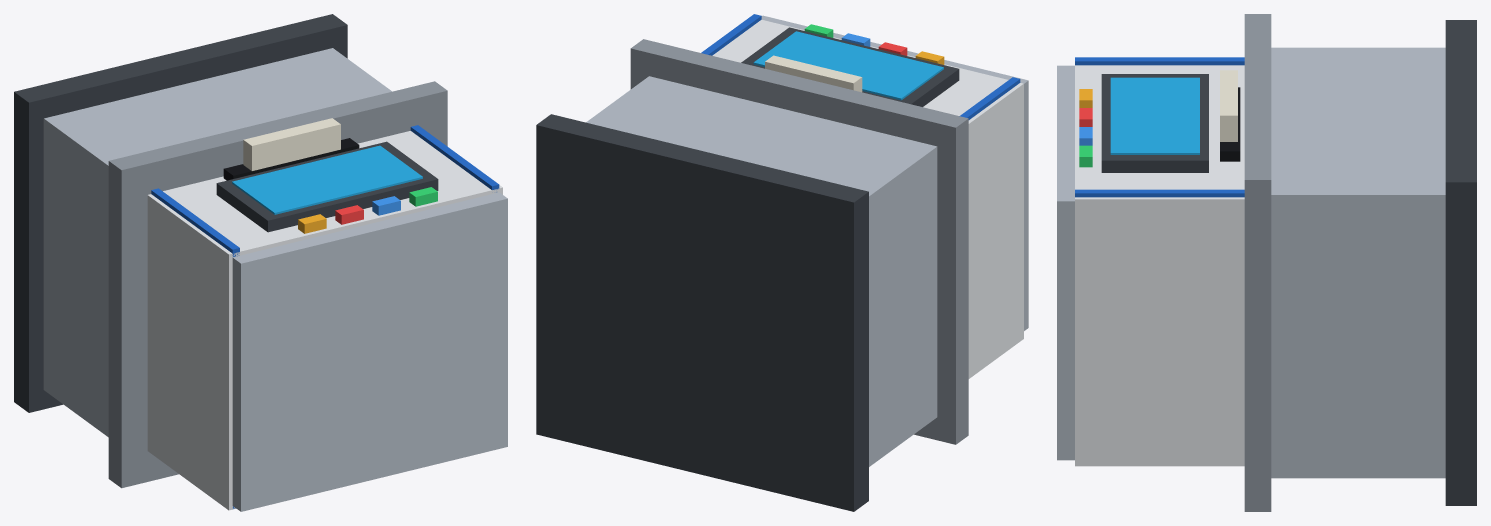
File: id_issuer.obj
3 renders of one model, left to right at view 1: azimuth 30°, elevation 25°; view 2: azimuth 150°, elevation 25°; view 3: azimuth 270°, elevation 25°, orthographic. The views are drawn at different scales.
Parts seen in each view (by area): view 1: DEV_14_id_issuer_body2, DEV_01_id_issuer_body2, DEV_03_id_issuer_body, DEV_02_id_issuer_top, DEV_00_id_issuer_trim, DEV_05_id_issuer_screen, DEV_04_id_issuer_trim, DEV_07_id_issuer_paper, DEV_09_id_issuer_accent, DEV_08_id_issuer_accent, DEV_06_id_issuer_slot; view 2: DEV_00_id_issuer_trim, DEV_01_id_issuer_body2, DEV_02_id_issuer_top, DEV_03_id_issuer_body, DEV_05_id_issuer_screen, DEV_04_id_issuer_trim, DEV_14_id_issuer_body2, DEV_07_id_issuer_paper, DEV_09_id_issuer_accent, DEV_08_id_issuer_accent; view 3: DEV_01_id_issuer_body2, DEV_03_id_issuer_body, DEV_00_id_issuer_trim, DEV_02_id_issuer_top, DEV_14_id_issuer_body2, DEV_05_id_issuer_screen, DEV_04_id_issuer_trim, DEV_08_id_issuer_accent, DEV_09_id_issuer_accent, DEV_07_id_issuer_paper, DEV_06_id_issuer_slot.
Part boxes in pixels (x1=…): DEV_14_id_issuer_body2: x1=232, y1=192, x2=507, y2=511; DEV_01_id_issuer_body2: x1=43, y1=48, x2=391, y2=437; DEV_03_id_issuer_body: x1=147, y1=131, x2=502, y2=510; DEV_02_id_issuer_top: x1=108, y1=81, x2=447, y2=488; DEV_00_id_issuer_trim: x1=14, y1=14, x2=347, y2=412; DEV_05_id_issuer_screen: x1=232, y1=145, x2=422, y2=214; DEV_04_id_issuer_trim: x1=216, y1=141, x2=438, y2=232; DEV_07_id_issuer_paper: x1=243, y1=118, x2=340, y2=170; DEV_09_id_issuer_accent: x1=151, y1=188, x2=239, y2=508; DEV_08_id_issuer_accent: x1=410, y1=125, x2=499, y2=192; DEV_06_id_issuer_slot: x1=223, y1=138, x2=359, y2=180; DEV_00_id_issuer_trim: x1=536, y1=114, x2=868, y2=511; DEV_01_id_issuer_body2: x1=586, y1=76, x2=937, y2=466; DEV_02_id_issuer_top: x1=630, y1=39, x2=968, y2=444; DEV_03_id_issuer_body: x1=712, y1=19, x2=1023, y2=378; DEV_05_id_issuer_screen: x1=753, y1=31, x2=943, y2=100; DEV_04_id_issuer_trim: x1=741, y1=27, x2=959, y2=106; DEV_14_id_issuer_body2: x1=761, y1=15, x2=1028, y2=330; DEV_07_id_issuer_paper: x1=765, y1=55, x2=862, y2=92; DEV_09_id_issuer_accent: x1=959, y1=77, x2=1020, y2=119; DEV_08_id_issuer_accent: x1=701, y1=14, x2=761, y2=55; DEV_01_id_issuer_body2: x1=1271, y1=47, x2=1445, y2=478; DEV_03_id_issuer_body: x1=1075, y1=65, x2=1244, y2=466; DEV_00_id_issuer_trim: x1=1445, y1=20, x2=1476, y2=505; DEV_02_id_issuer_top: x1=1244, y1=14, x2=1271, y2=511; DEV_14_id_issuer_body2: x1=1057, y1=65, x2=1074, y2=460; DEV_05_id_issuer_screen: x1=1110, y1=77, x2=1199, y2=154; DEV_04_id_issuer_trim: x1=1101, y1=74, x2=1208, y2=172; DEV_08_id_issuer_accent: x1=1075, y1=189, x2=1244, y2=197; DEV_09_id_issuer_accent: x1=1075, y1=57, x2=1244, y2=65; DEV_07_id_issuer_paper: x1=1220, y1=70, x2=1237, y2=141; DEV_06_id_issuer_slot: x1=1220, y1=87, x2=1240, y2=161.
Size of the model in its own units: 0.88 by 0.83 by 0.94.
